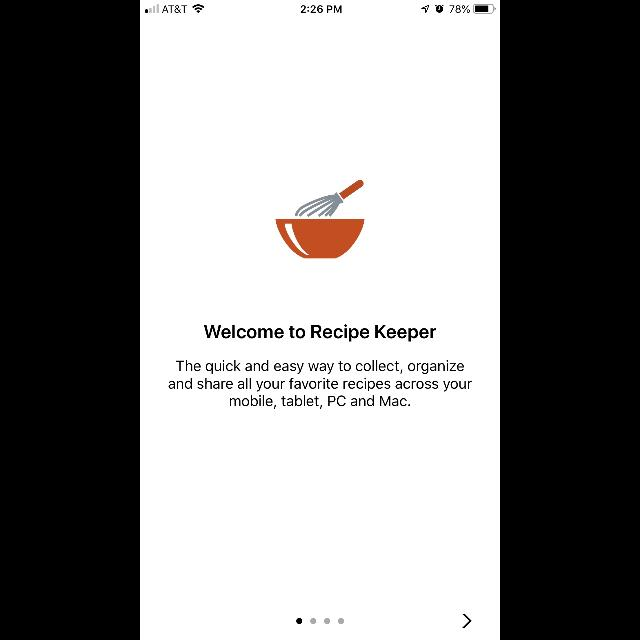icon: (462, 614, 472, 628)
image: (275, 180, 365, 258)
pageindicator: (296, 618, 344, 624)
text: (168, 359, 472, 408), (204, 324, 436, 342)
uppertaskbar: (140, 0, 500, 14)
